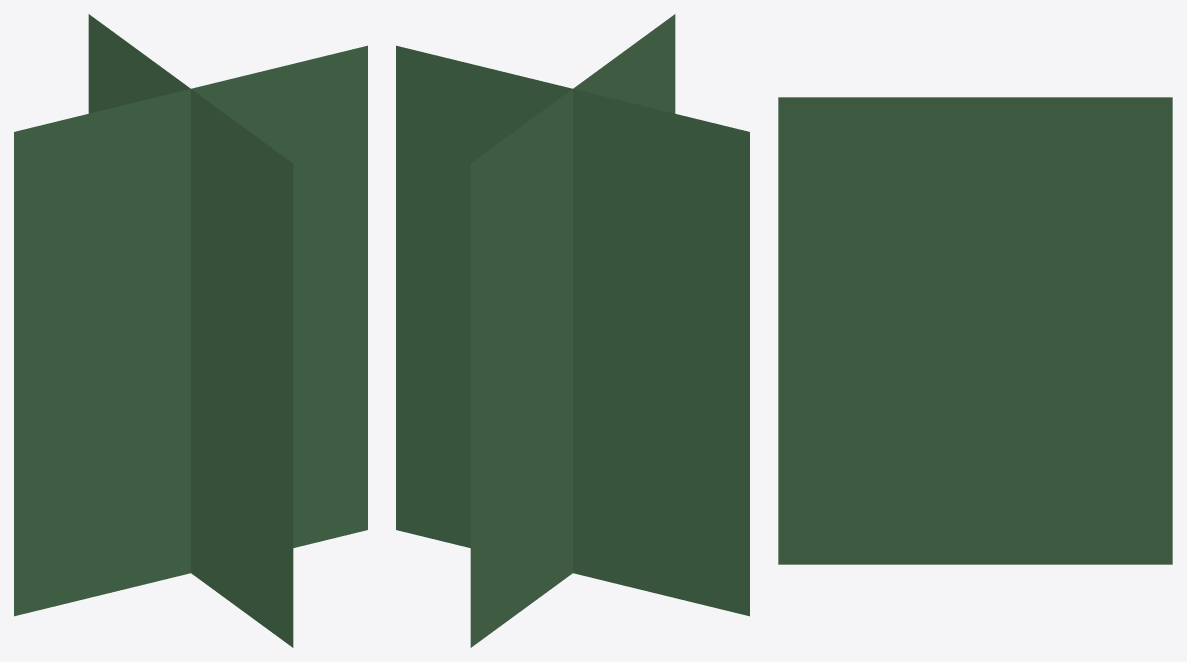
The model's file is tree-large.glb.
3 views of the same model, side by side, from view 1: azimuth 30°, elevation 25°; view 2: azimuth 150°, elevation 25°; view 3: azimuth 270°, elevation 25° (orthographic). The views are drawn at different scales.
Parts seen in each view (by area): view 1: tree-large; view 2: tree-large; view 3: tree-large.
Boxes of the visible parts, x1,y1,x2,y2 form: tree-large: (14,14,367,647); tree-large: (396,14,749,647); tree-large: (778,97,1172,564).
Bounding box in the file's own units: 1.3 × 1.7 × 1.3.
